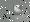person: (14, 7, 23, 20)
